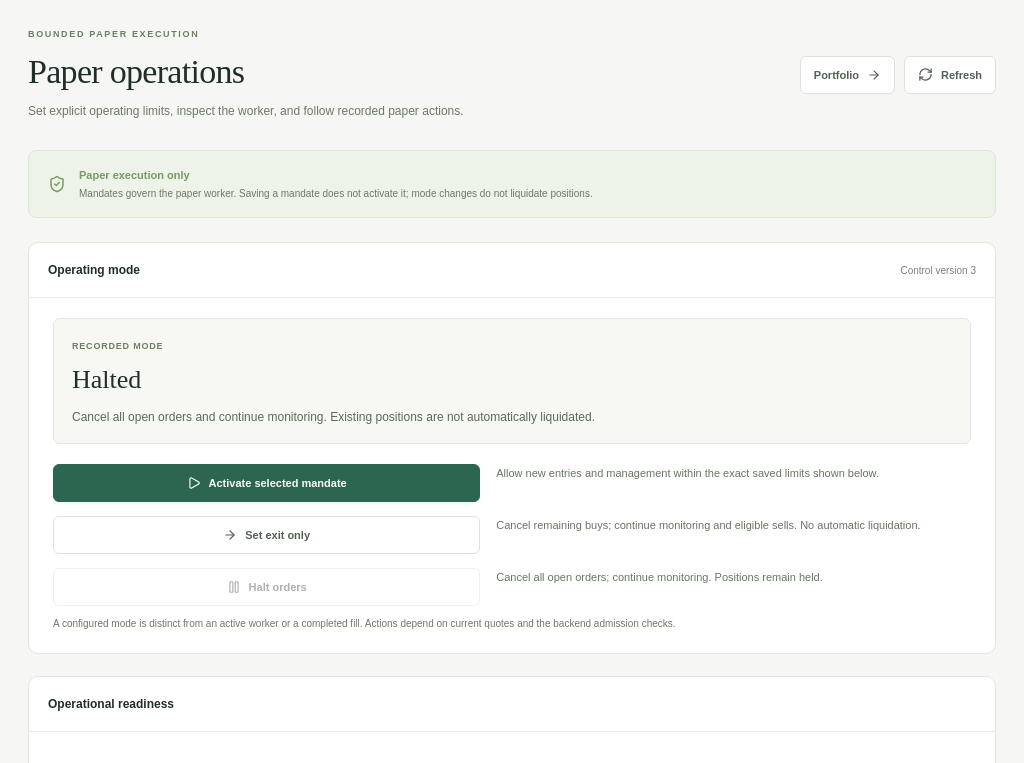
paper operator controls › refreshes a 409 control conflict and never retries activation automatically
Check: the text "Control version 3" is shown, box [900,263,976,278]
Click the button "Activate selected mandate" at (267, 483), box [53,464,480,502]
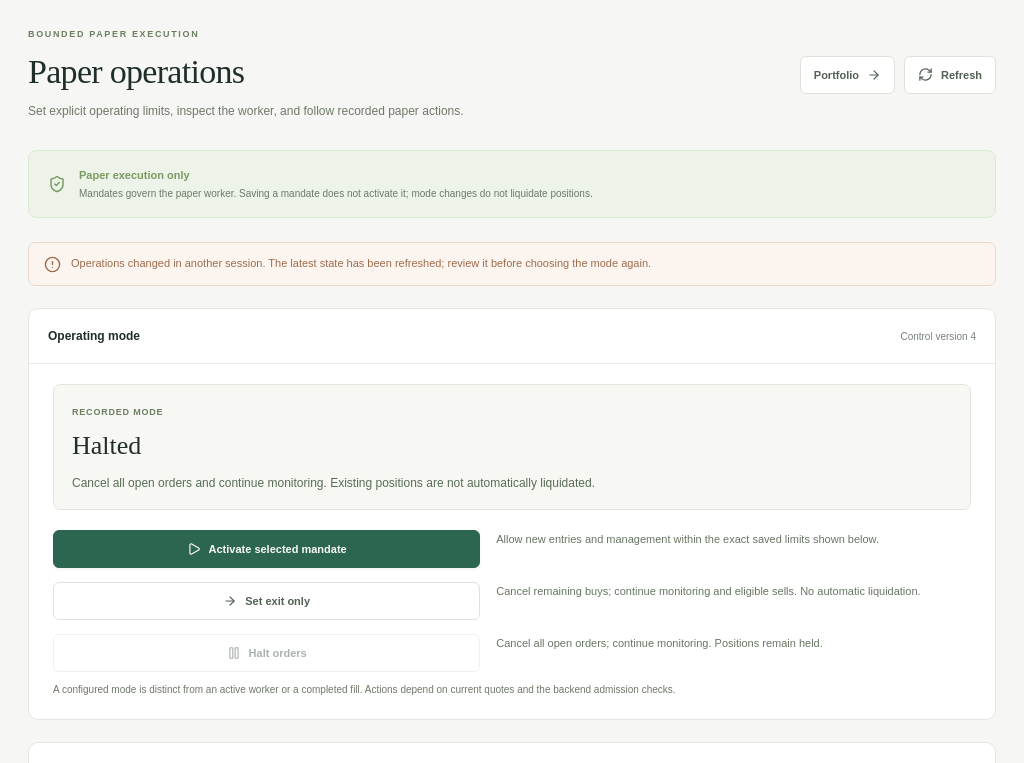
Check: the text "Control version 4" is shown, box [900,329,976,344]
Check: the text "Operations changed in another session" is shown, box [71,257,651,269]
